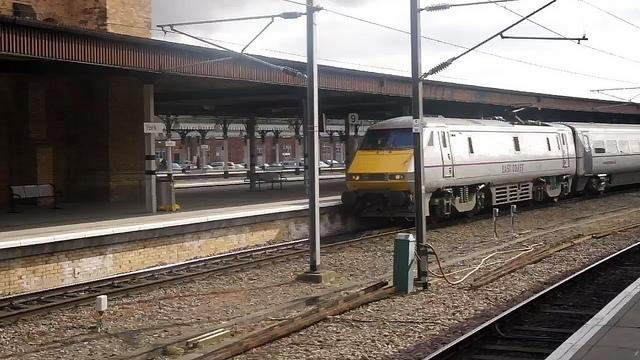car: (210, 162, 236, 169), (234, 163, 245, 170), (327, 160, 339, 164), (172, 164, 182, 167)
